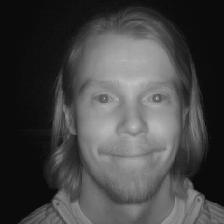happy: (38, 7, 216, 204)
